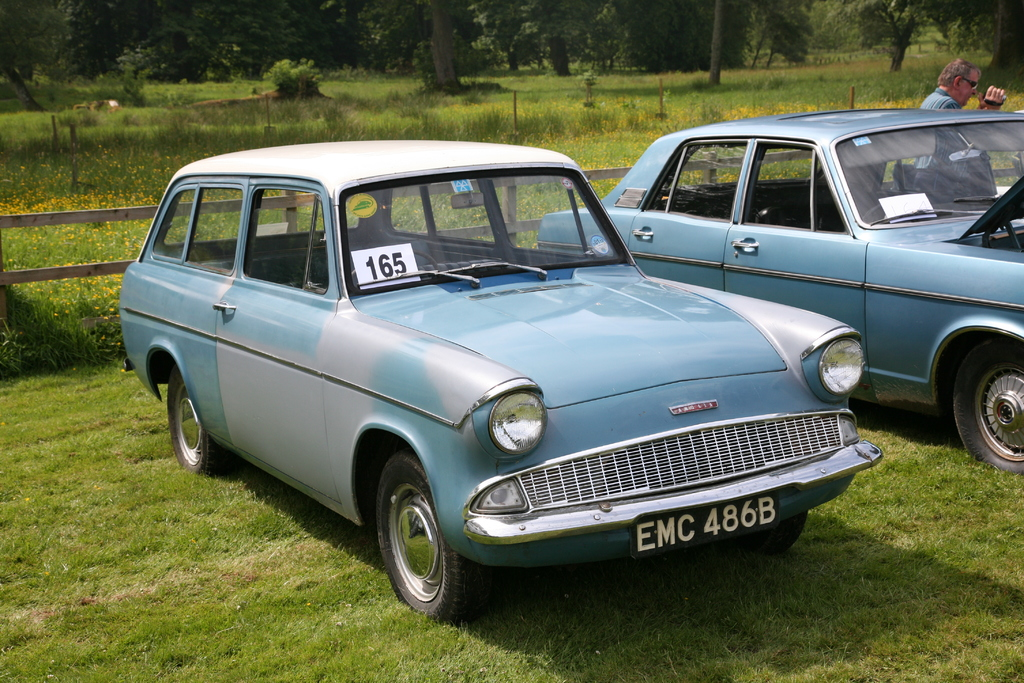Car: (112, 130, 888, 620), (541, 105, 1023, 474)
